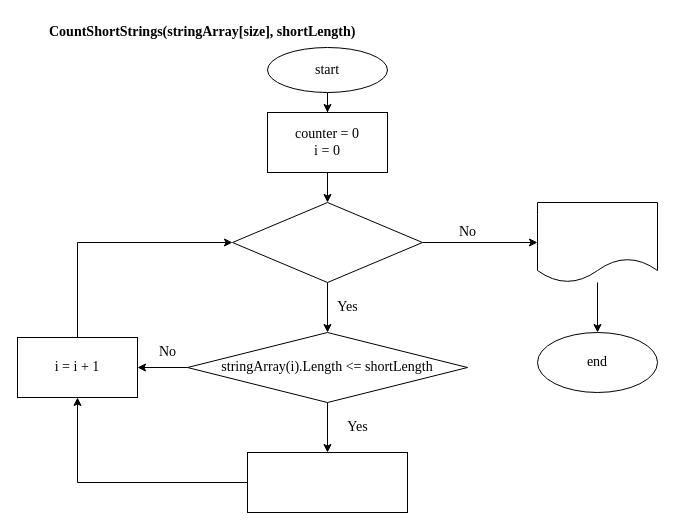
Some shapes in this 675 by 530 pixel diagram are drawn without their labels. Each missing label, with the centre of its shape:
counter: the point at 597,242
counter = counter + 1: the point at 327,482
i < size: the point at 327,242
